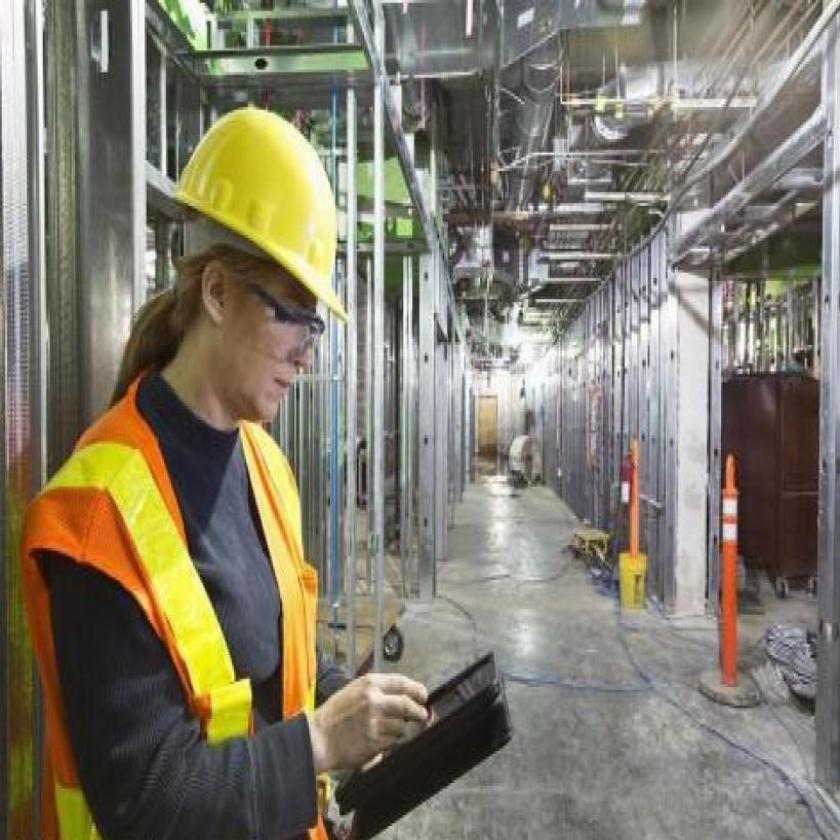Con_casco: (153, 100, 357, 434)
